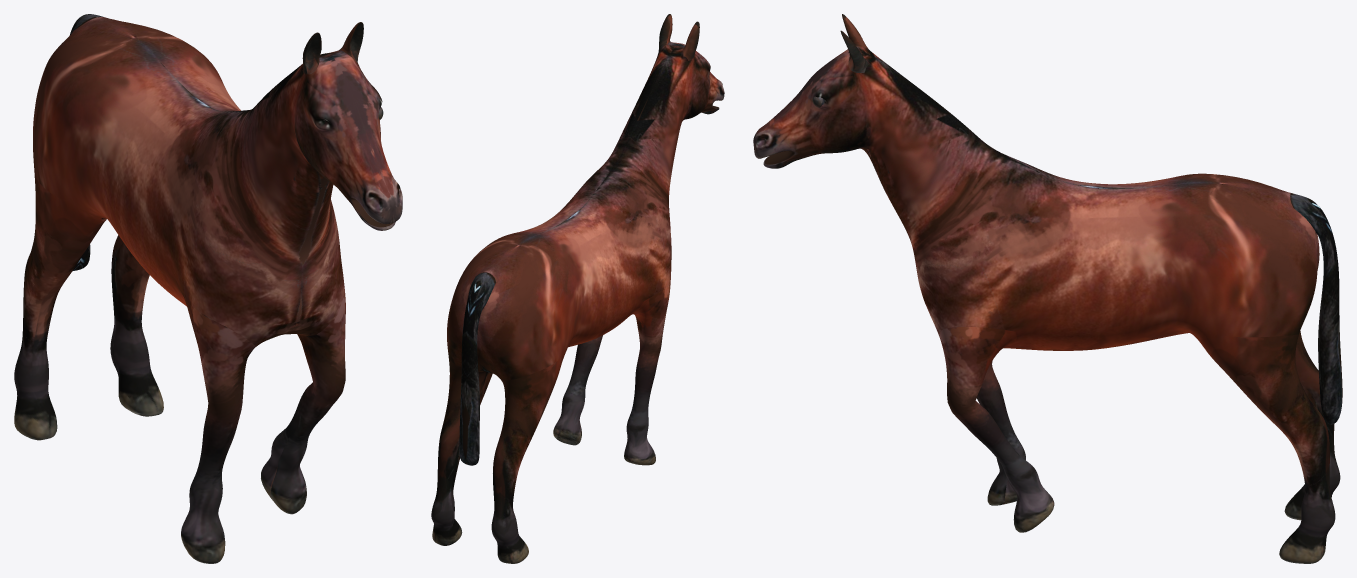
File: horsefbx2.fbx
3 renders of one model, left to right at view 1: azimuth 30°, elevation 25°; view 2: azimuth 150°, elevation 25°; view 3: azimuth 270°, elevation 25°, orthographic. The views are drawn at different scales.
Visible parts, largest first — view 1: 10026_Horse_v01-it2; view 2: 10026_Horse_v01-it2; view 3: 10026_Horse_v01-it2.
Boxes of the visible parts, left/top/right/bottom form: 10026_Horse_v01-it2: left=14, top=14, right=402, bottom=563; 10026_Horse_v01-it2: left=431, top=14, right=724, bottom=563; 10026_Horse_v01-it2: left=753, top=14, right=1342, bottom=563.
Size of the model in its own units: 27.82 by 102 by 108.
Materials: 1 (1 with a texture image).
